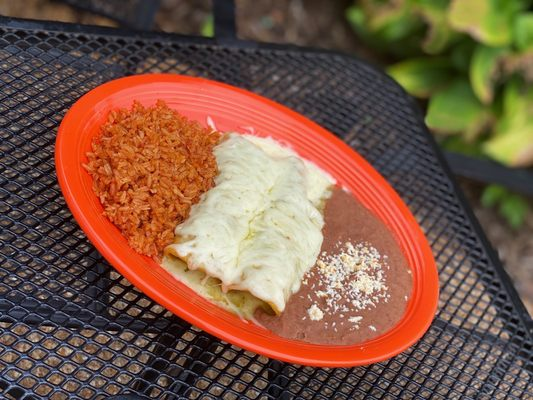sushi: (55, 63, 500, 376)
